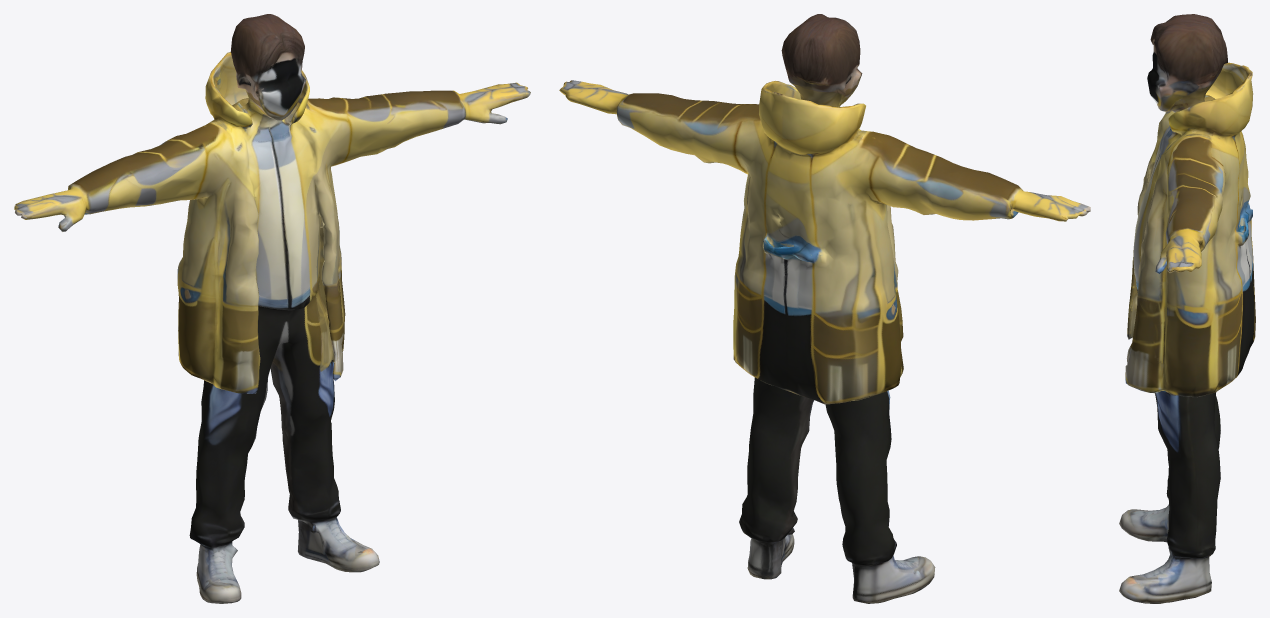
The model's file is Masked_man_with_trans_1010233517_texture.glb.
The picture shows the model from 3 angles, left to right: view 1: azimuth 30°, elevation 25°; view 2: azimuth 150°, elevation 25°; view 3: azimuth 270°, elevation 25°; orthographic projection. The views are drawn at different scales.
Size of the model in its own units: 1.95 by 2 by 0.4544.
1 material, 1 textured.
